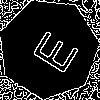E: (23, 23, 80, 76)
